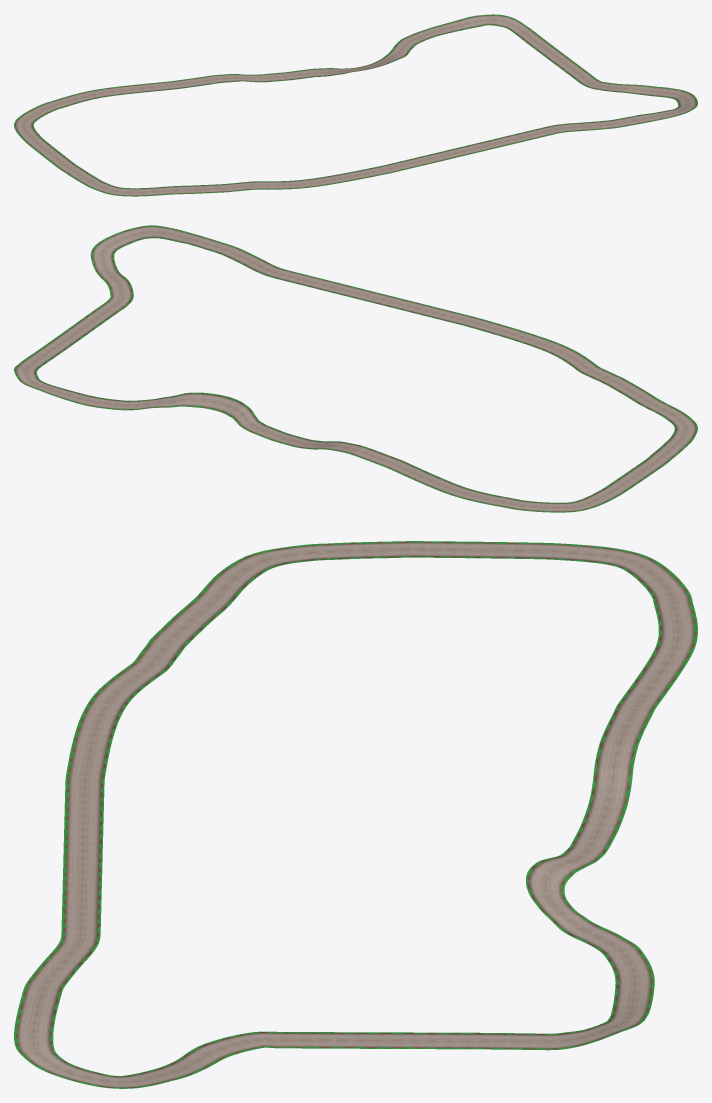
The model's file is Track_Terrain_Road.FBX.
3 renders of one model, top to bottom at view 1: azimuth 30°, elevation 25°; view 2: azimuth 150°, elevation 25°; view 3: azimuth 270°, elevation 25°, orthographic. The views are drawn at different scales.
Parts seen in each view (by area): view 1: Object001; view 2: Object001; view 3: Object001.
Boxes of the visible parts, x1=… form: Object001: x1=14, y1=14, x2=697, y2=196; Object001: x1=14, y1=225, x2=697, y2=512; Object001: x1=14, y1=541, x2=697, y2=1088.
Bounding box in the file's own units: 767 × 13.07 × 413.
